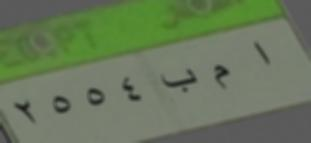2: (11, 97, 40, 129)
4: (120, 71, 143, 109)
5: (82, 83, 107, 115), (49, 91, 73, 121)
alif: (250, 39, 275, 71)
baa: (160, 64, 201, 97)
meem: (213, 62, 234, 95)
